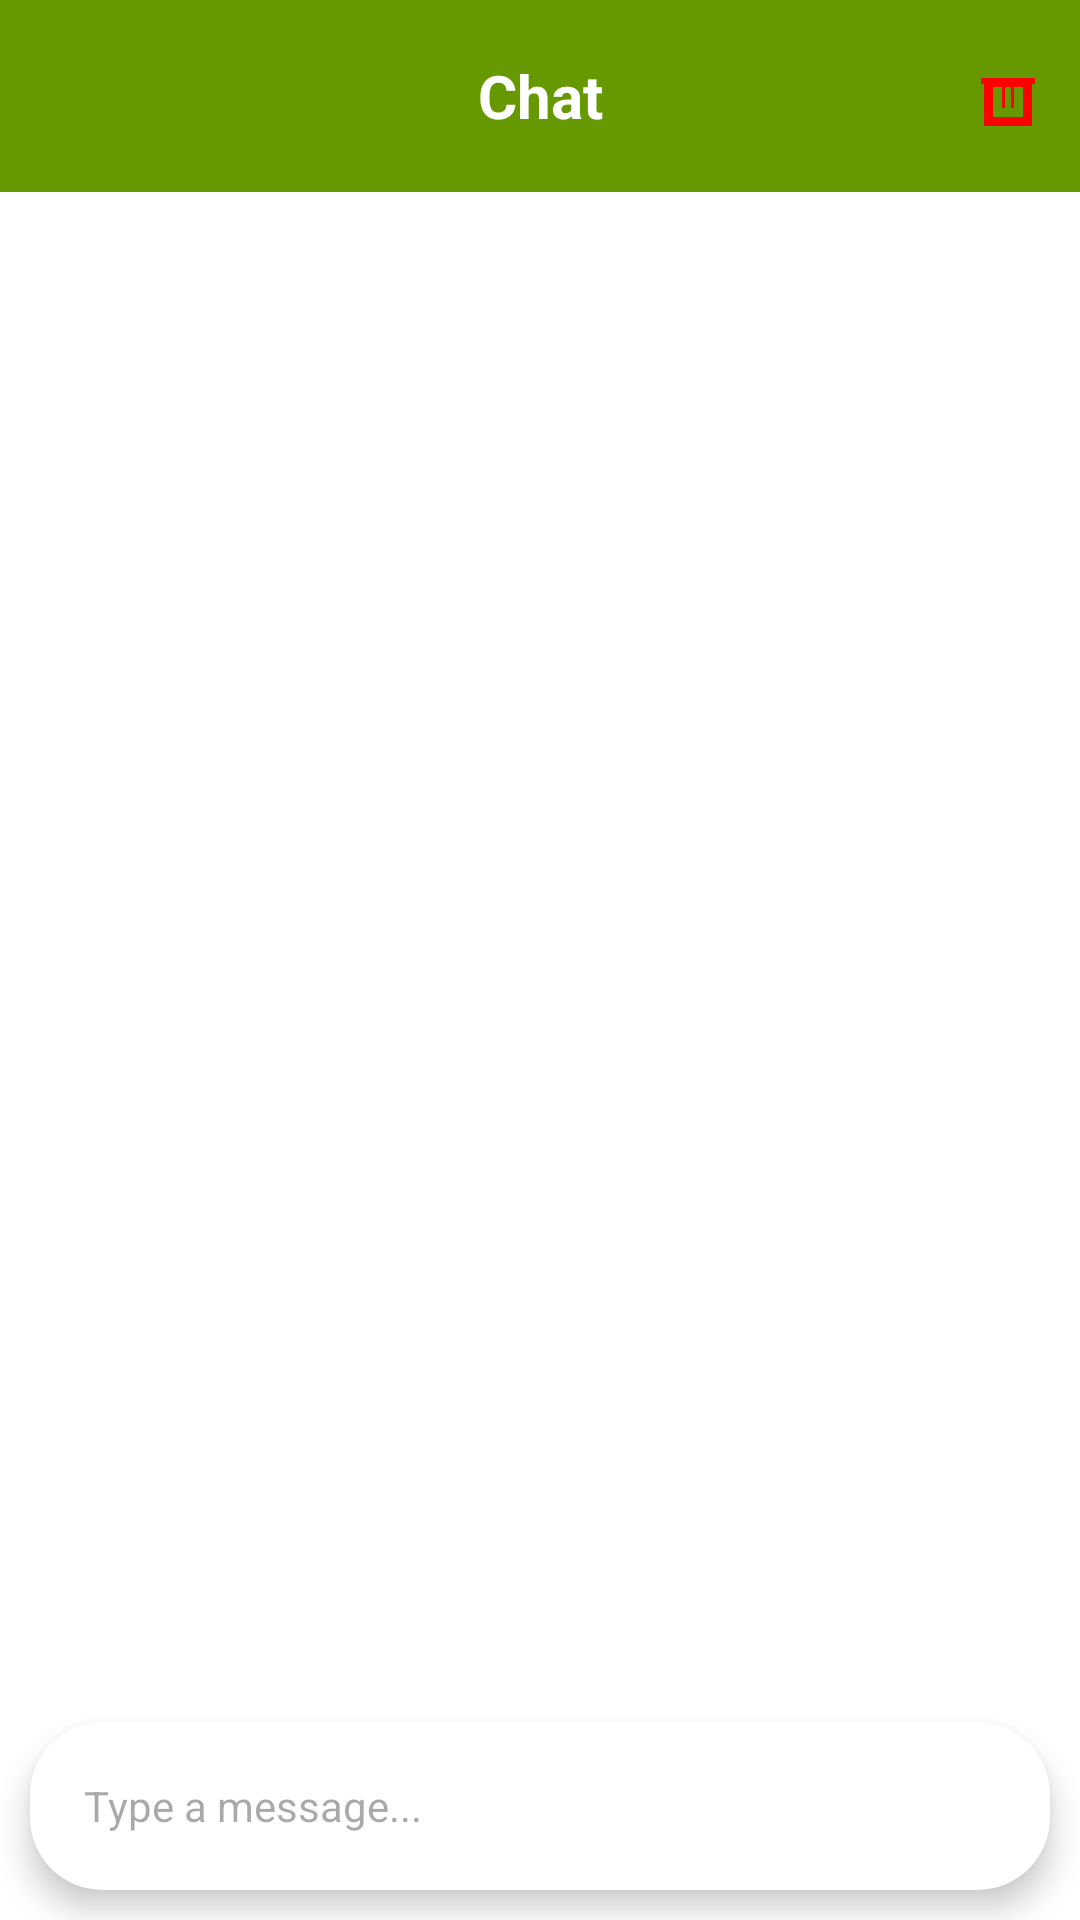

Icons on this 1080px x 1920px Android screen, each with the point to tap as [x,y]:
Clear Chat: [1008,102]
